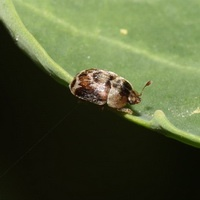insect: (69, 68, 151, 113)
